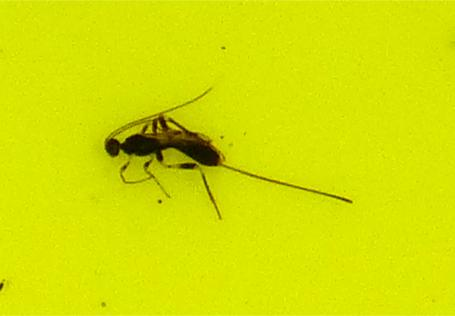Hymenoptera: (100, 100, 355, 216)
